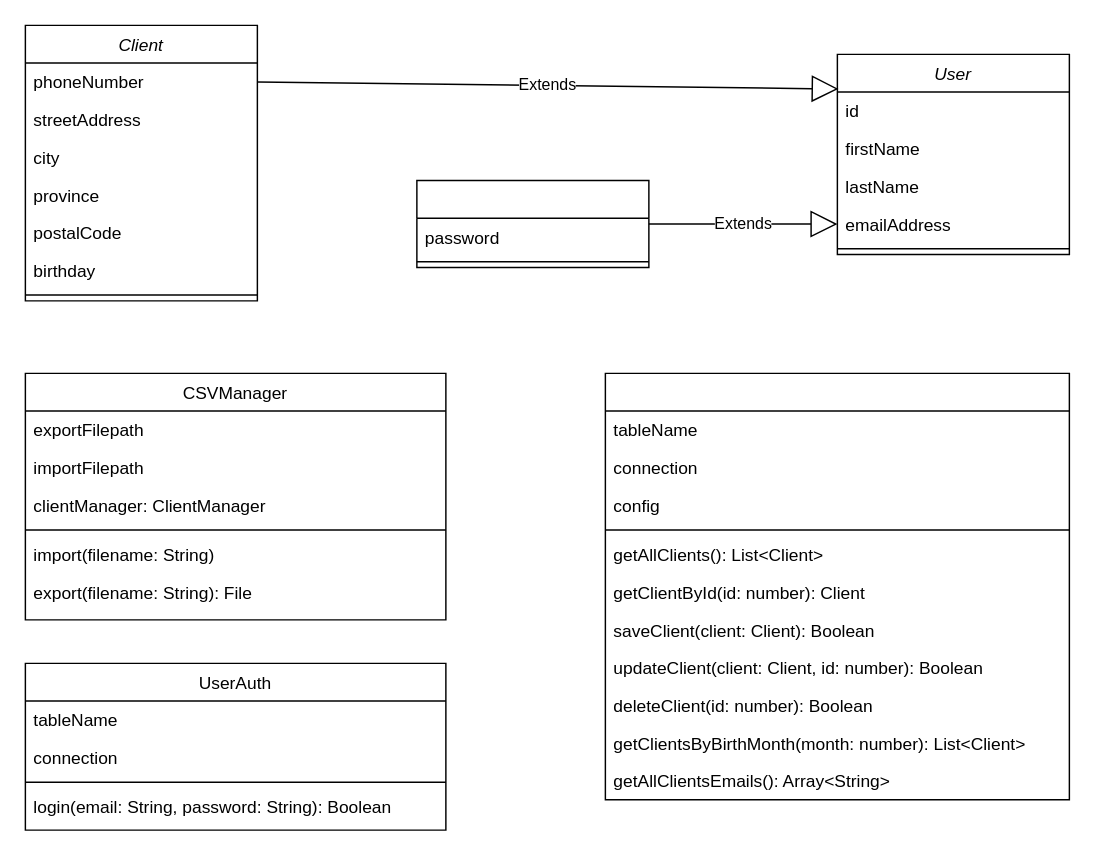
Image size: 1095x856. Some labels were removed from this diagram. Each missing label, with the box of its shape:
ClientManager: (604, 372, 1069, 800)
SalesRep: (415, 179, 649, 268)
